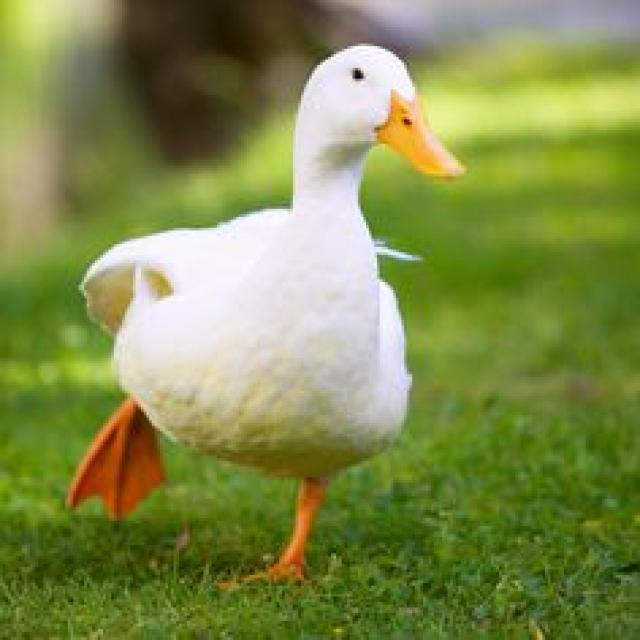Herbivorous: (65, 43, 466, 586)
